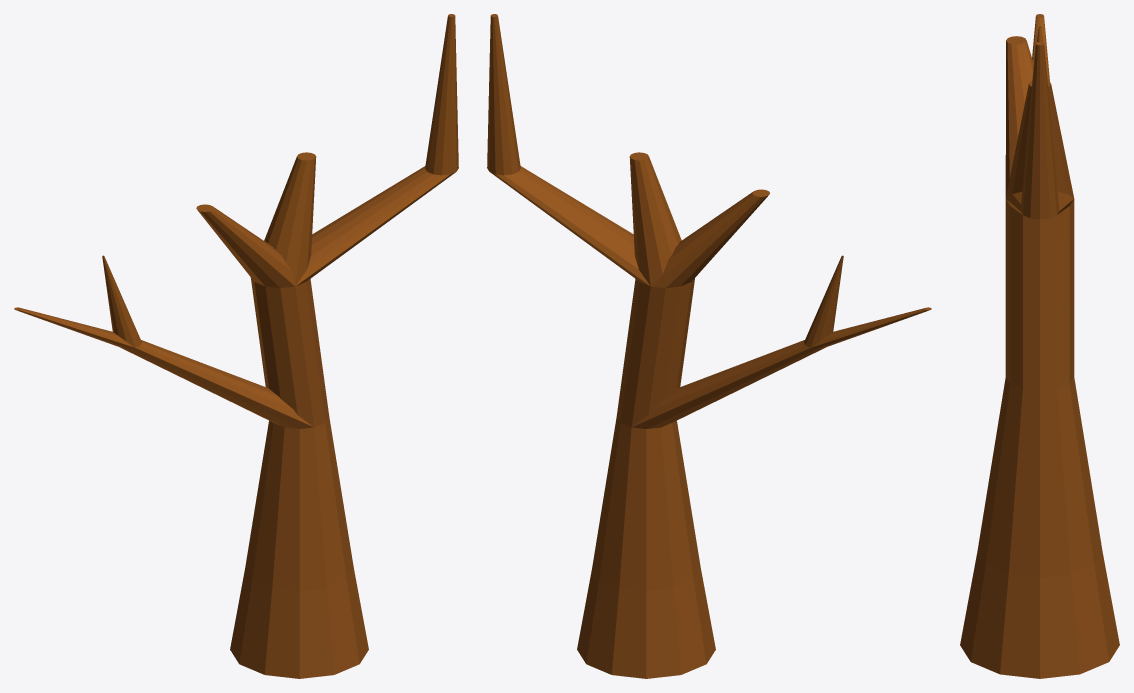
The model's file is Tree_34.fbx.
3 views of the same model, side by side, from view 1: azimuth 30°, elevation 25°; view 2: azimuth 150°, elevation 25°; view 3: azimuth 270°, elevation 25° (orthographic). The views are drawn at different scales.
Parts seen in each view (by area): view 1: Tree_34; view 2: Tree_34; view 3: Tree_34.
Part boxes in pixels (left/top/right/bottom): Tree_34: left=14, top=14, right=458, bottom=678; Tree_34: left=487, top=14, right=931, bottom=678; Tree_34: left=960, top=14, right=1119, bottom=678.
Bounding box in the file's own units: 1263 × 1630 × 344.
